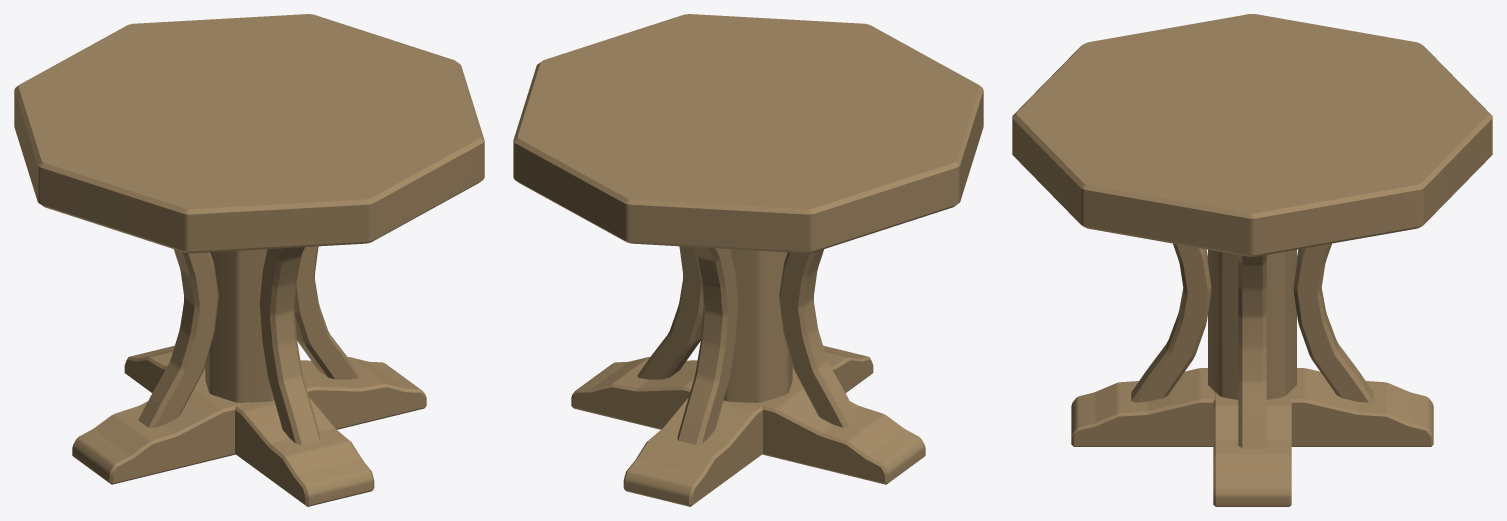
The model's file is side table.fbx.
The picture shows the model from 3 angles, left to right: view 1: azimuth 30°, elevation 25°; view 2: azimuth 150°, elevation 25°; view 3: azimuth 270°, elevation 25°; orthographic projection.
Parts seen in each view (by area): view 1: pCube7; view 2: pCube7; view 3: pCube7.
Part boxes in pixels (bbox=[...]): pCube7: bbox=[14, 14, 484, 506]; pCube7: bbox=[513, 14, 983, 506]; pCube7: bbox=[1012, 14, 1492, 506].
Size of the model in its own units: 1.71 by 1.25 by 1.71.
